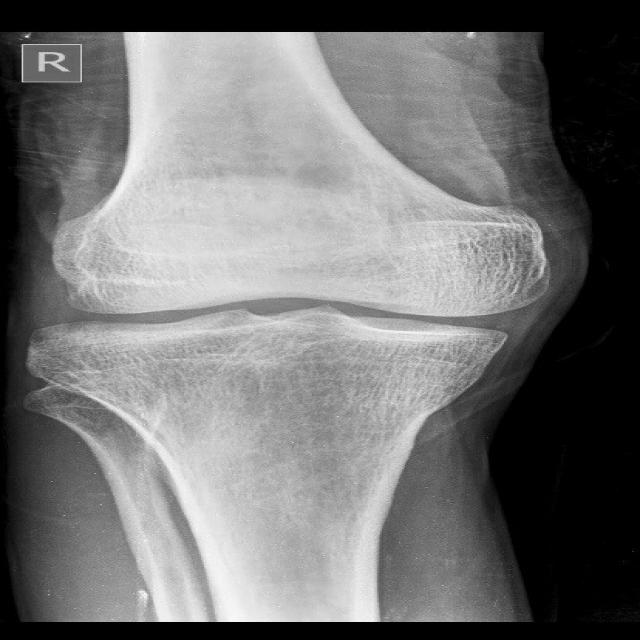normal: (38, 208, 553, 400)
